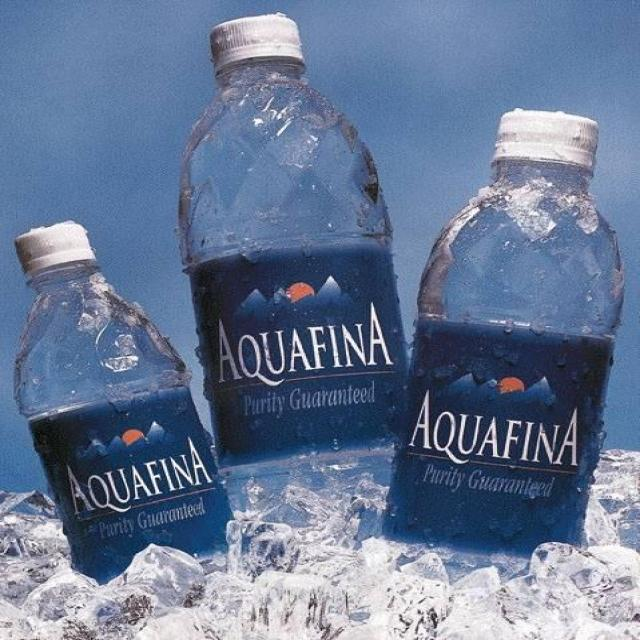bottle: (161, 5, 421, 527), (369, 110, 640, 556), (8, 215, 236, 582)
